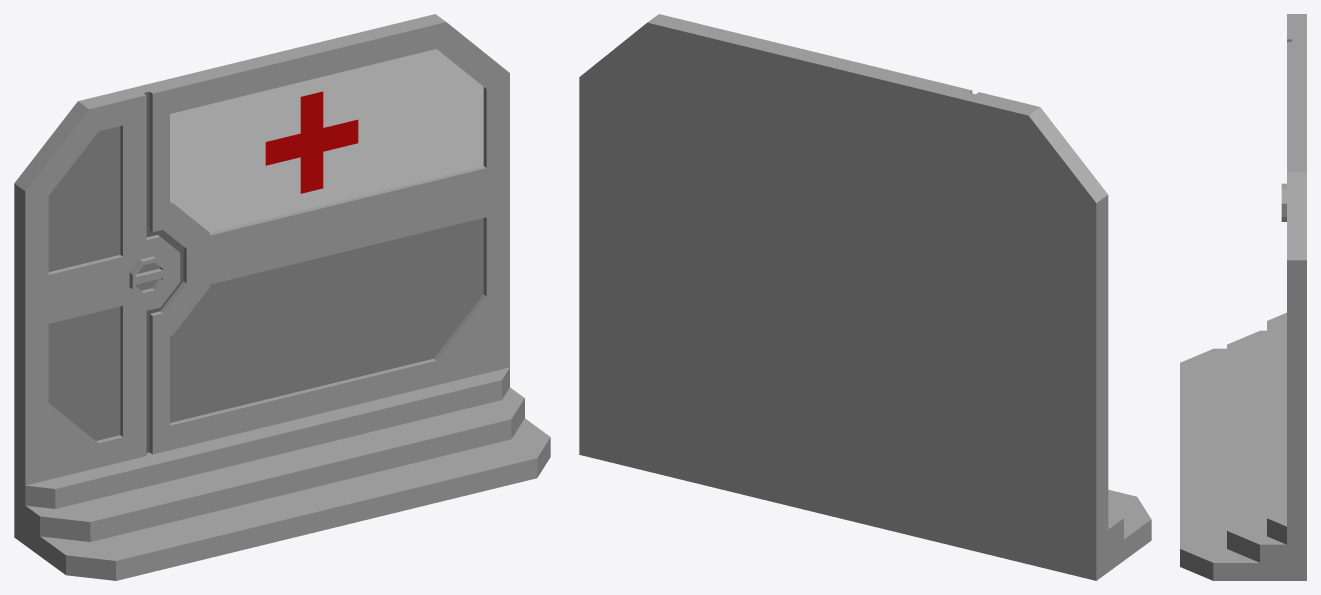
File: SciFi_Modular_Tile_Door_Medical_Large_Grey_01.fbx
3 views of the same model, side by side, from view 1: azimuth 30°, elevation 25°; view 2: azimuth 150°, elevation 25°; view 3: azimuth 270°, elevation 25° (orthographic). The views are drawn at different scales.
Visible parts, largest first — view 1: SciFi_Modular_Tile_Door_Medical_Large_Grey_01; view 2: SciFi_Modular_Tile_Door_Medical_Large_Grey_01; view 3: SciFi_Modular_Tile_Door_Medical_Large_Grey_01.
Boxes of the visible parts, x1=… form: SciFi_Modular_Tile_Door_Medical_Large_Grey_01: x1=14, y1=14, x2=550, y2=580; SciFi_Modular_Tile_Door_Medical_Large_Grey_01: x1=579, y1=14, x2=1151, y2=580; SciFi_Modular_Tile_Door_Medical_Large_Grey_01: x1=1180, y1=14, x2=1306, y2=580.
Size of the model in its own units: 4000 by 3318 by 1001.
